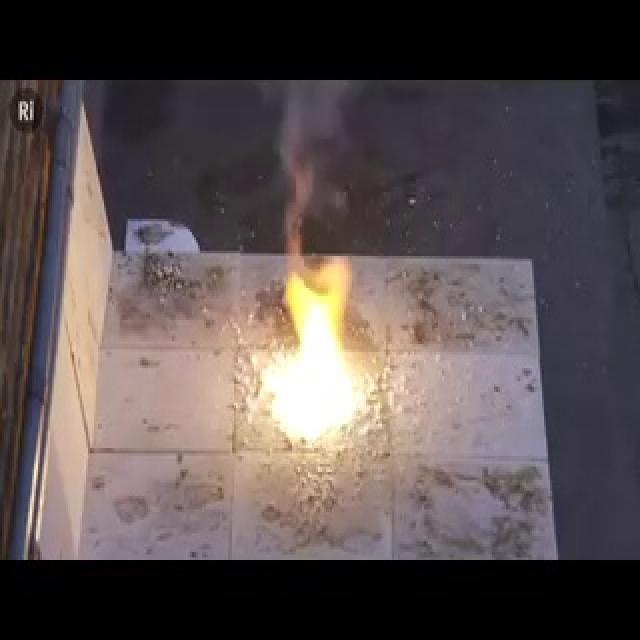fire: (165, 160, 387, 493)
